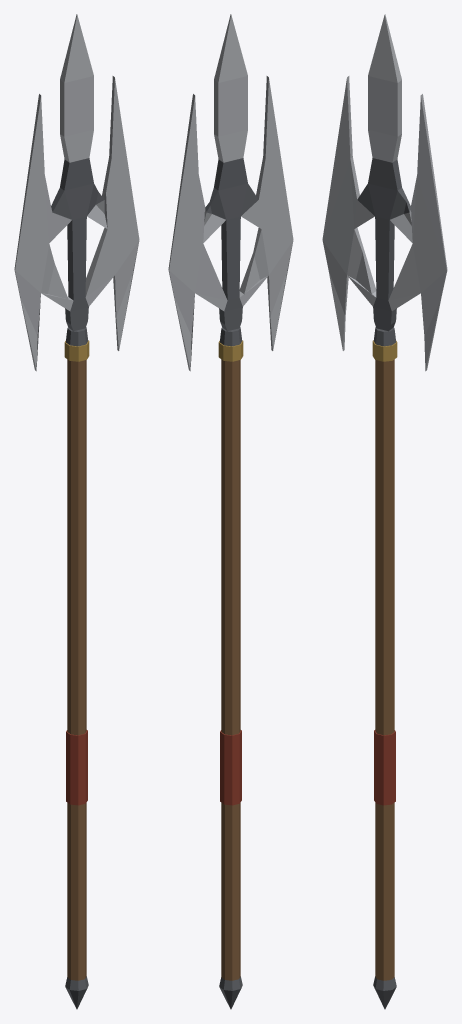
The model's file is weapon.glb.
3 renders of one model, left to right at view 1: azimuth 30°, elevation 25°; view 2: azimuth 210°, elevation 25°; view 3: azimuth 330°, elevation 25°, orthographic.
Parts seen in each view (by area): view 1: dwarf/lancer/weapon; view 2: dwarf/lancer/weapon; view 3: dwarf/lancer/weapon.
Part boxes in pixels (box(x1,y1,x2,y2)): dwarf/lancer/weapon: box(14, 14, 139, 1009); dwarf/lancer/weapon: box(168, 14, 293, 1009); dwarf/lancer/weapon: box(322, 14, 447, 1009).
Size of the model in its own units: 0.2708 by 2.07 by 0.0436.
